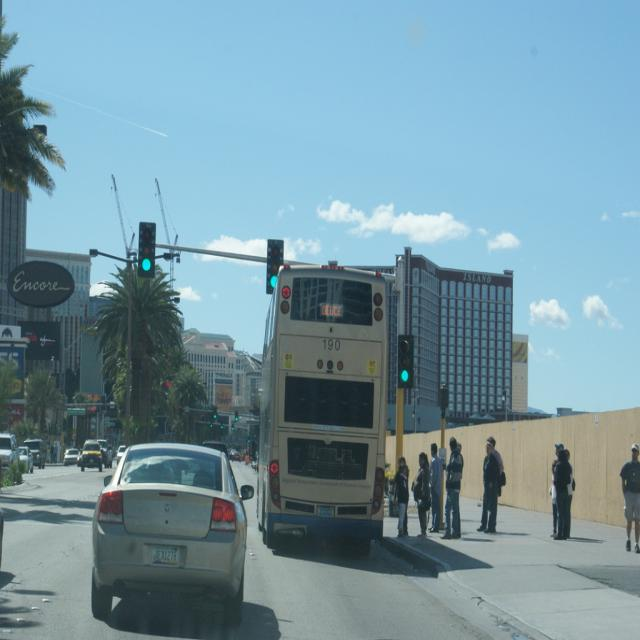Buses: (256, 264, 391, 560)
Passenger Car: (92, 437, 252, 632)
Pedestrians: (618, 445, 640, 558), (443, 436, 461, 539), (552, 448, 570, 541), (415, 449, 431, 540), (484, 443, 498, 534), (398, 463, 408, 540)
